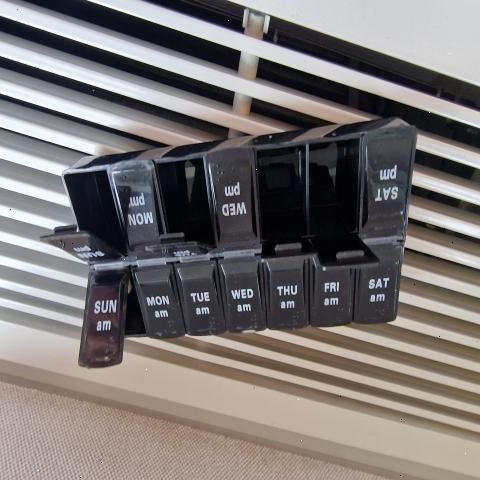Open: (308, 136, 376, 267), (256, 144, 313, 261), (144, 158, 214, 249), (61, 169, 125, 257), (120, 274, 144, 364)
